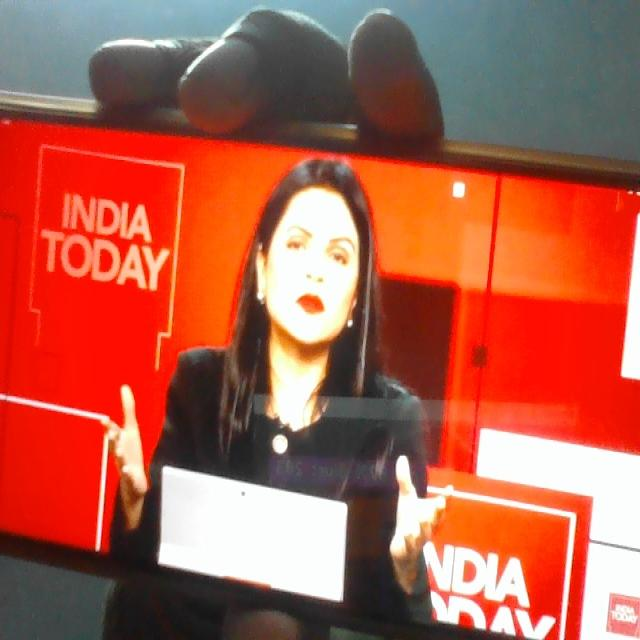fake: (247, 140, 376, 384)
